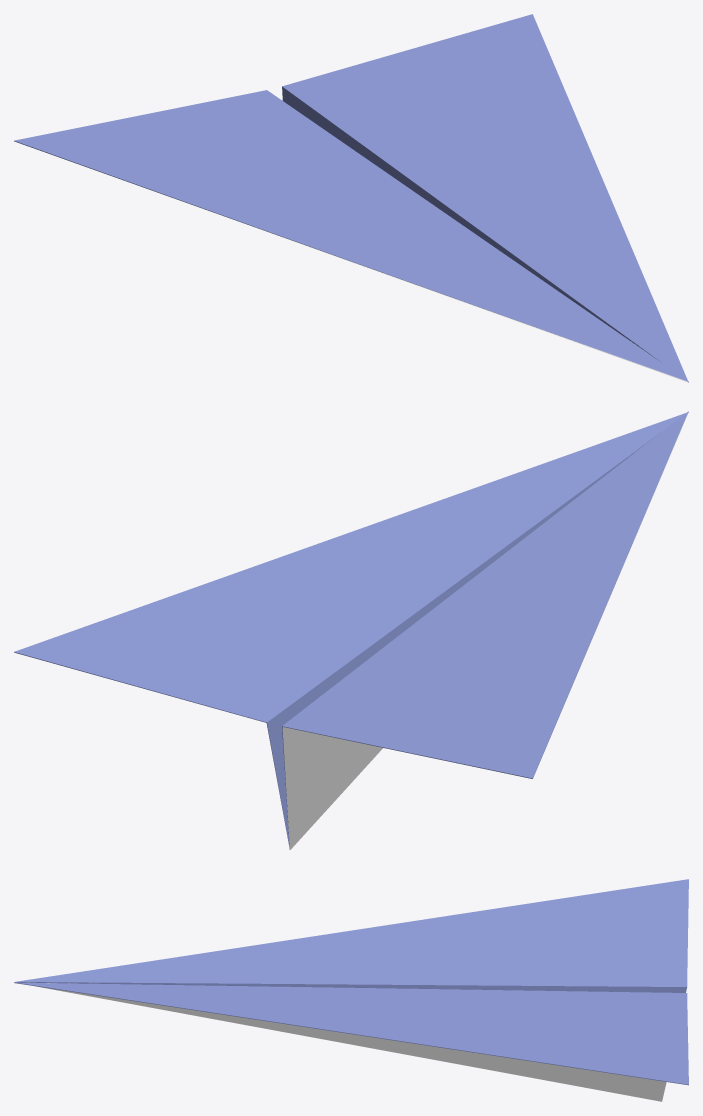
The model's file is paper_airplane.glb.
3 views of the same model, one above another, from view 1: azimuth 30°, elevation 25°; view 2: azimuth 150°, elevation 25°; view 3: azimuth 270°, elevation 25° (orthographic). The views are drawn at different scales.
Parts seen in each view (by area): view 1: 平面; view 2: 平面; view 3: 平面.
Part boxes in pixels (x1,y1,x2,y2): 平面: (14,14,688,382); 平面: (14,411,688,849); 平面: (14,879,688,1101).
Bounding box in the file's own units: 3.9 × 1.06 × 5.41.
